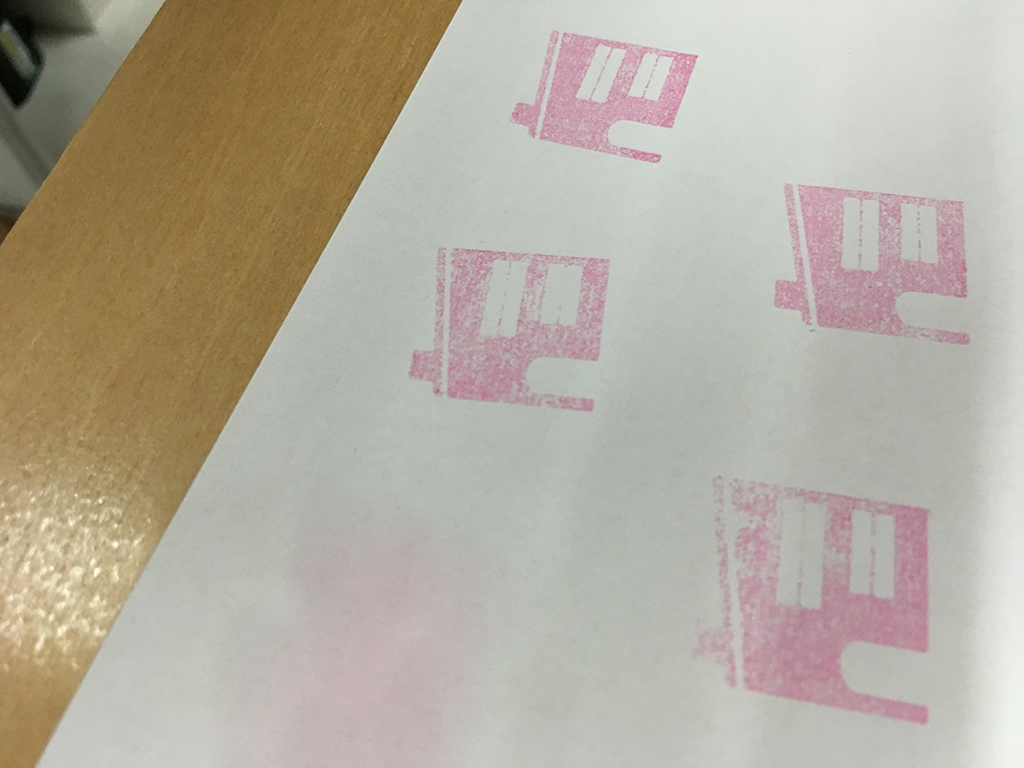house: (677, 462, 944, 738), (767, 168, 981, 355), (404, 235, 620, 418), (502, 16, 702, 169)
